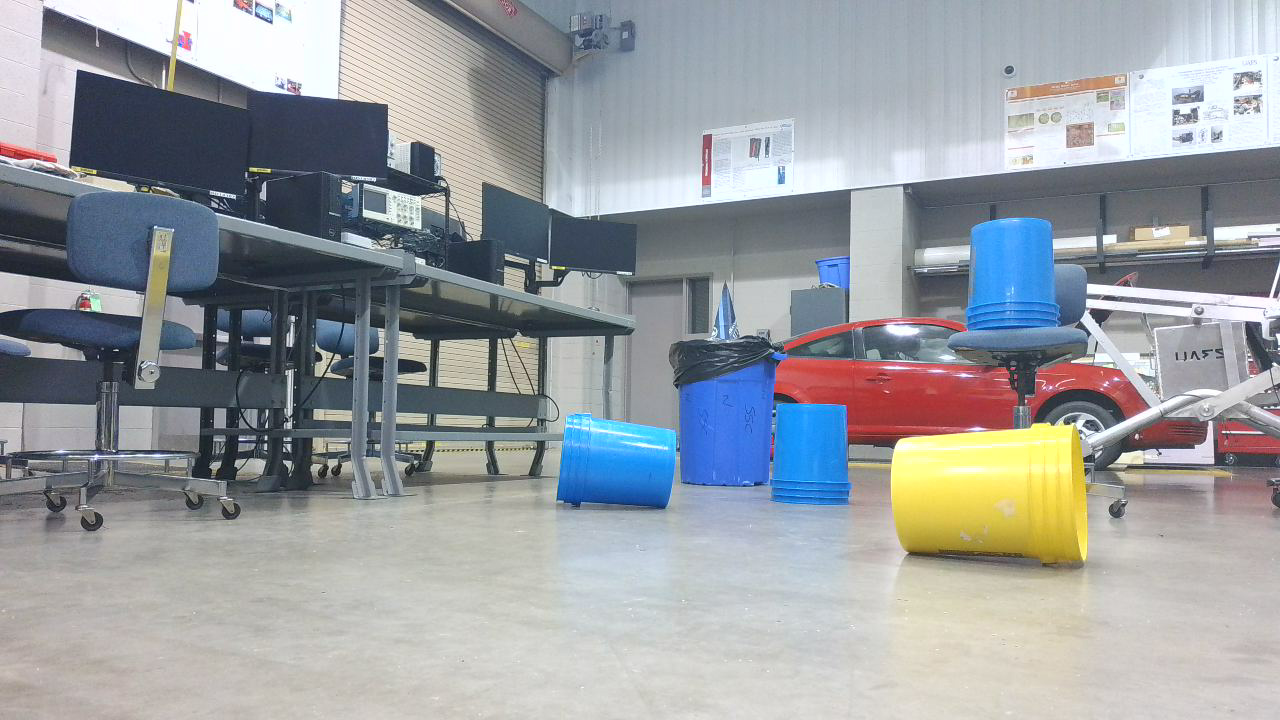blue_bucket: (558, 414, 685, 520), (966, 219, 1069, 340), (772, 403, 859, 515)
yellow_bucket: (892, 423, 1098, 574)
